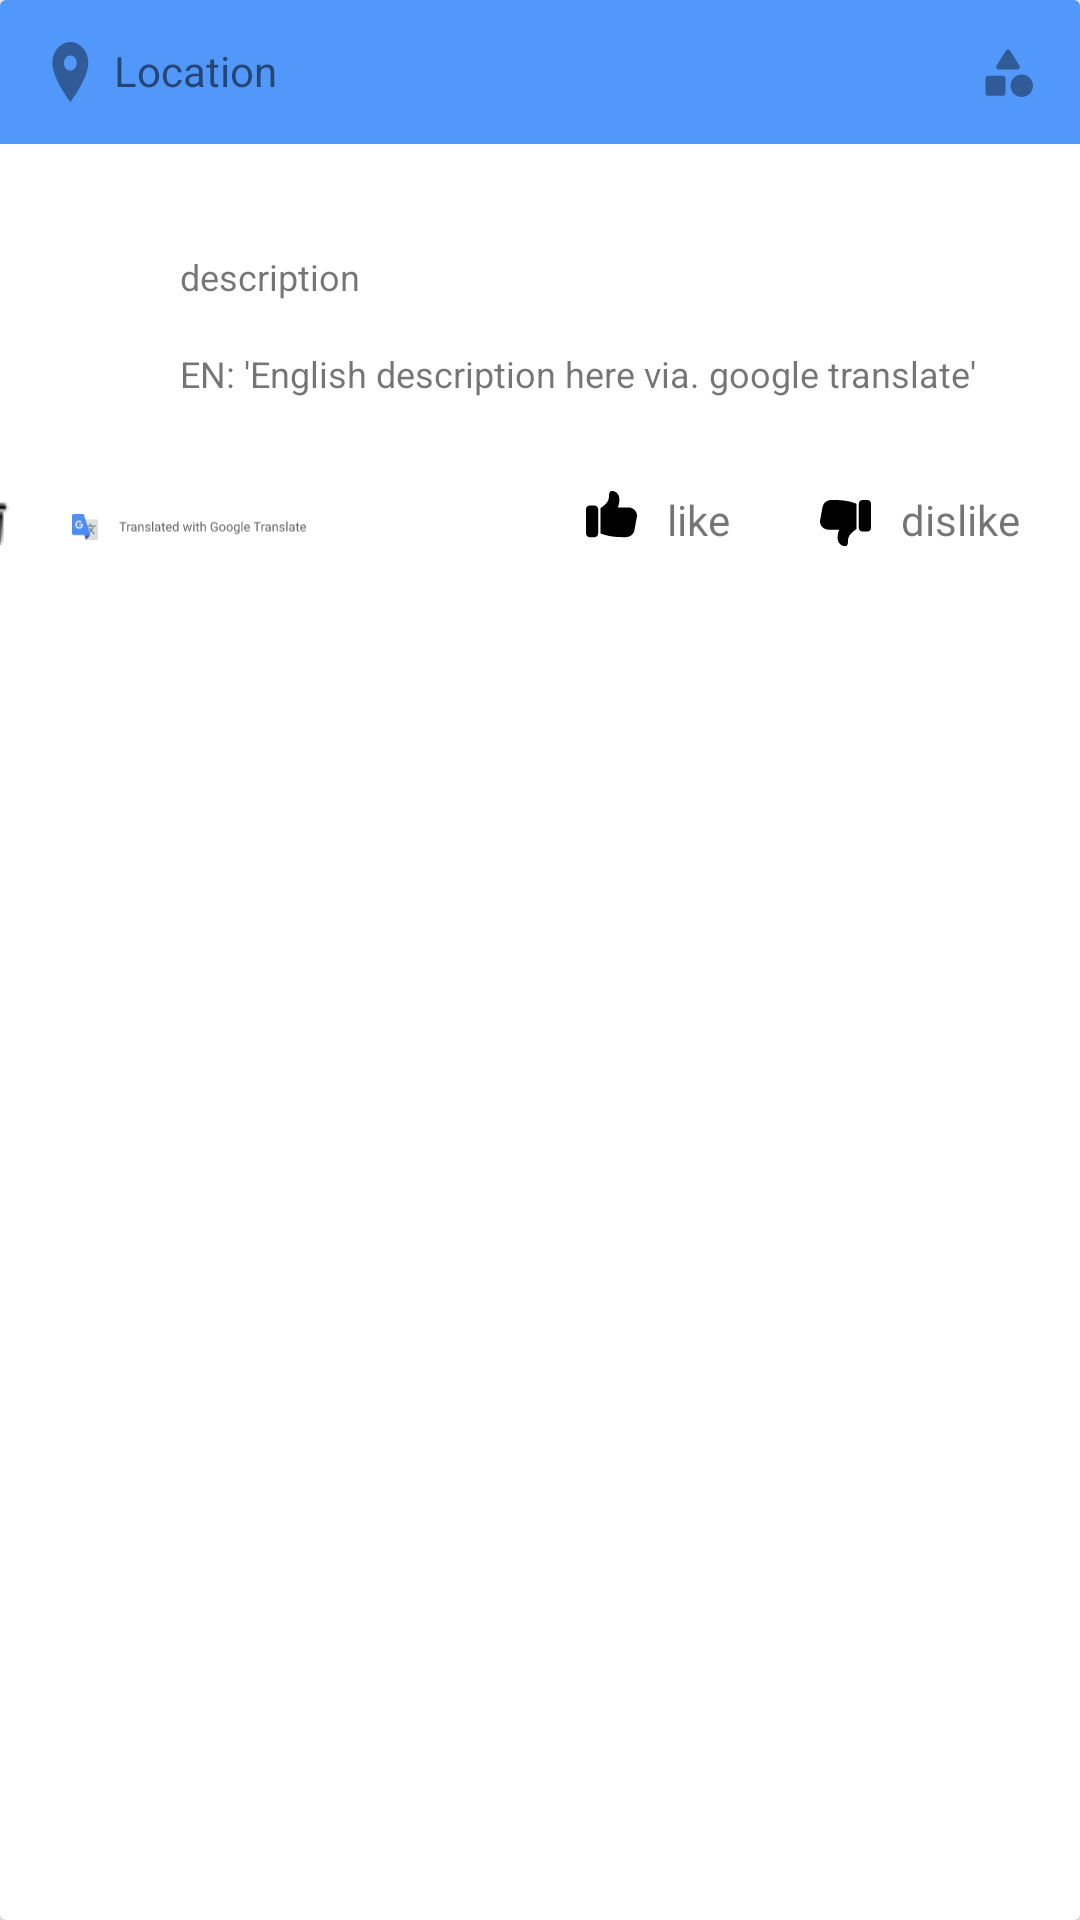

Locate icon controls on the screen. Image size 1080px×1920px, boxes as (x1, y1, x2, y2).
category: (985, 49, 1033, 97)
pin: (52, 42, 89, 102)
